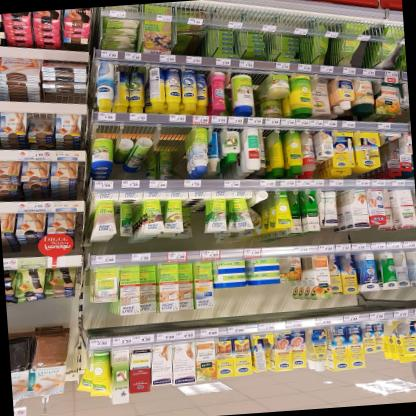empty_space: (175, 24, 208, 53), (157, 129, 187, 153), (185, 200, 202, 208)
